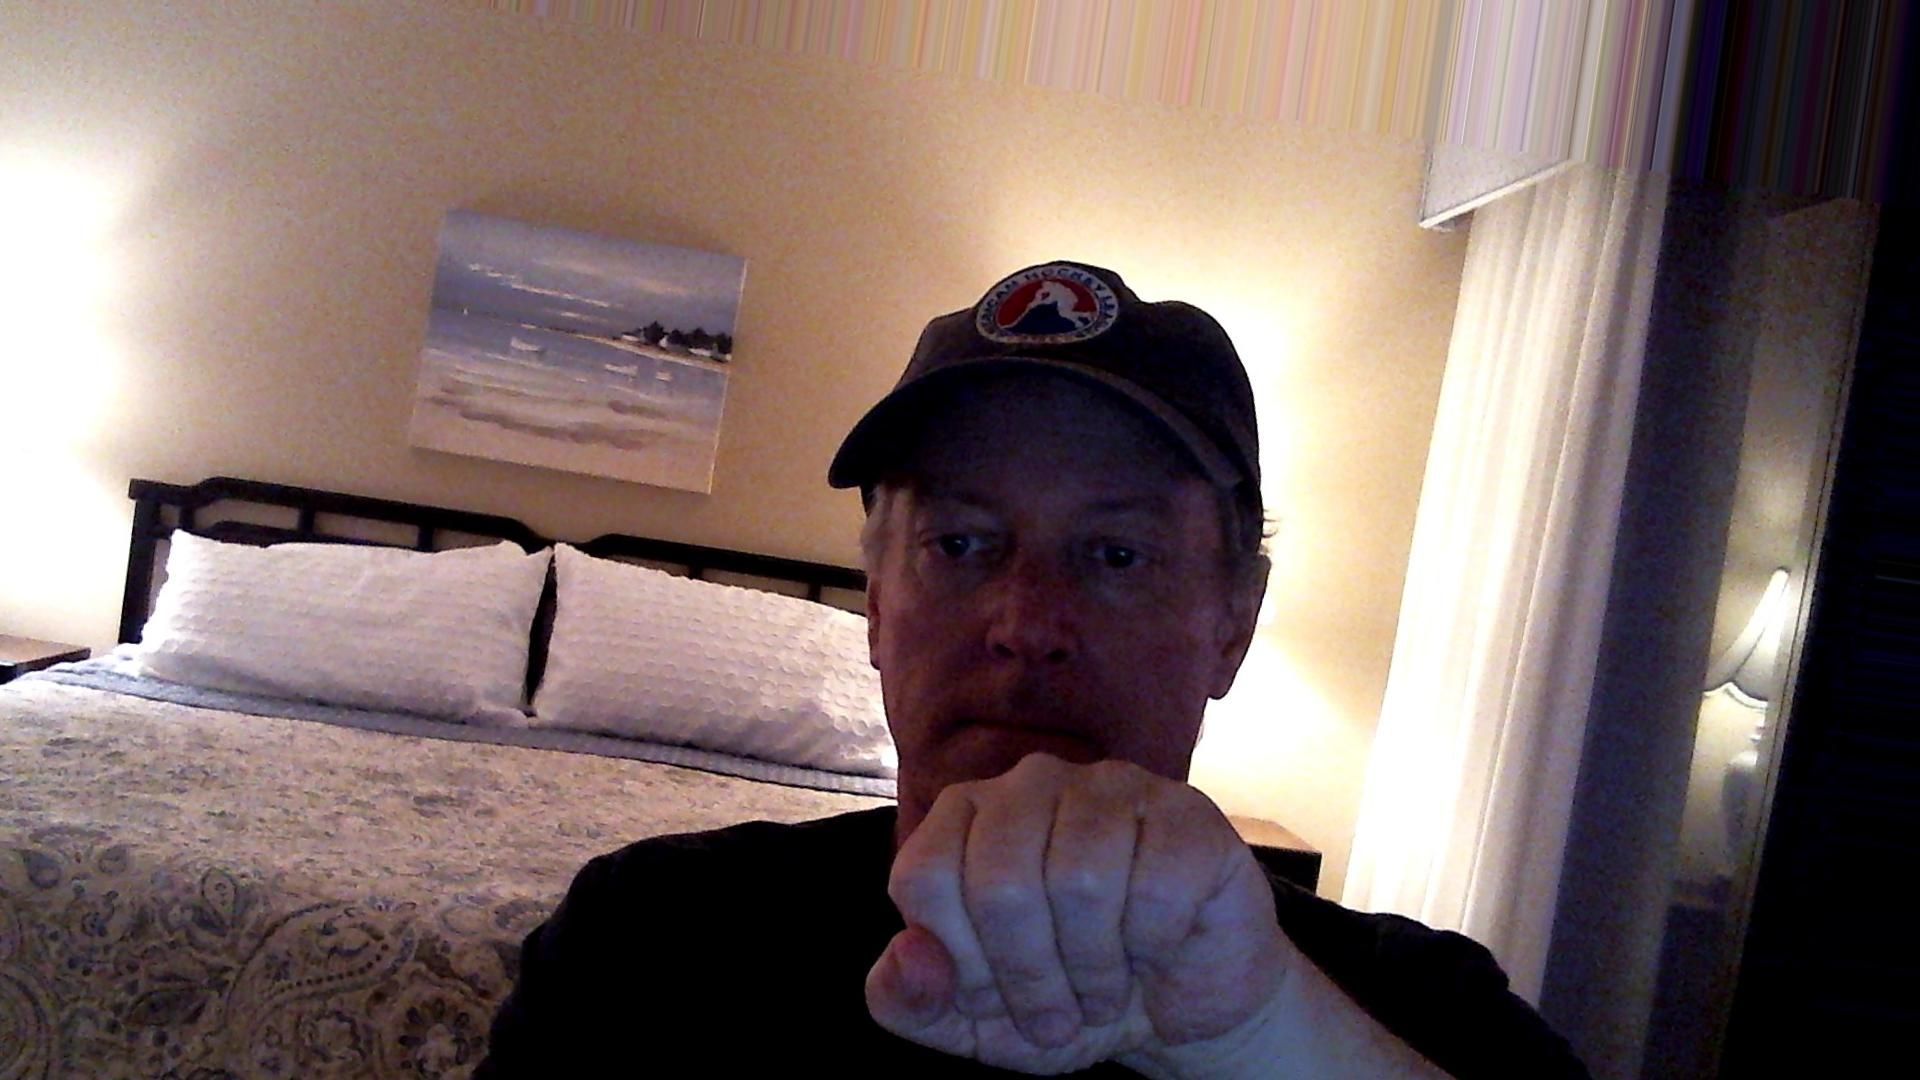Yes: (822, 742, 1320, 1077)
